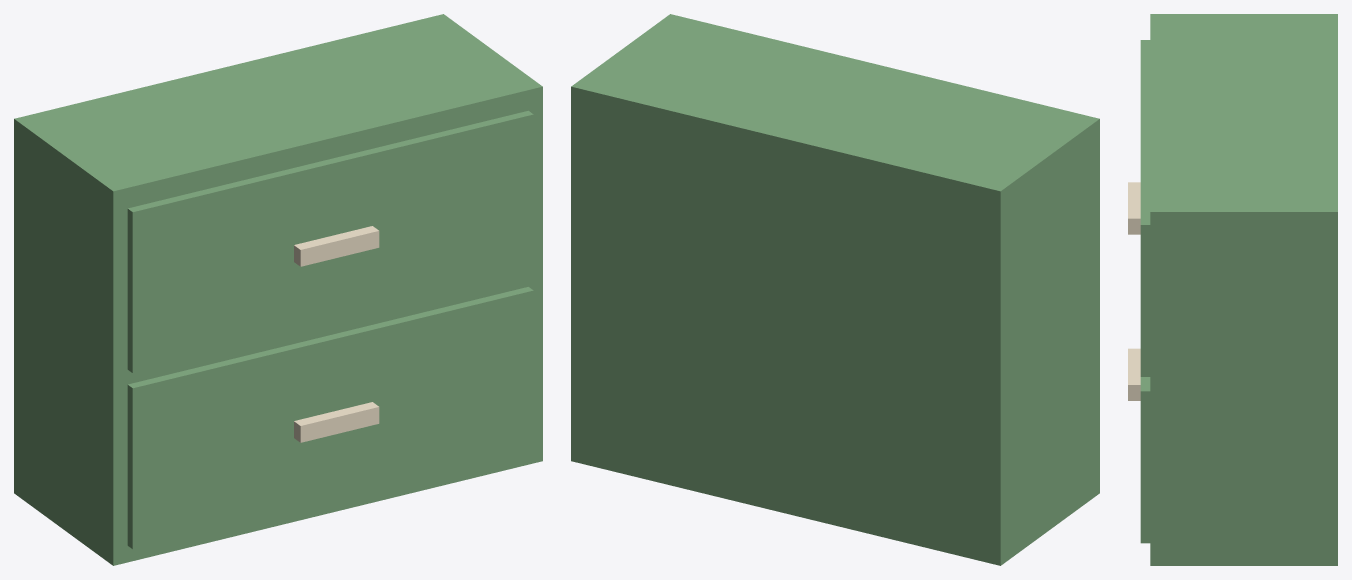
3 views of the same model, side by side, from view 1: azimuth 30°, elevation 25°; view 2: azimuth 150°, elevation 25°; view 3: azimuth 270°, elevation 25° (orthographic). The views are drawn at different scales.
Visible parts, largest first — view 1: Cabinet; view 2: Cabinet; view 3: Cabinet.
Boxes of the visible parts, left/top/right/bottom form: Cabinet: left=14, top=14, right=542, bottom=565; Cabinet: left=571, top=14, right=1099, bottom=565; Cabinet: left=1128, top=14, right=1337, bottom=565.
Bounding box in the file's own units: 1.2 × 1 × 0.5375.
Materials: 1 (1 with a texture image).
